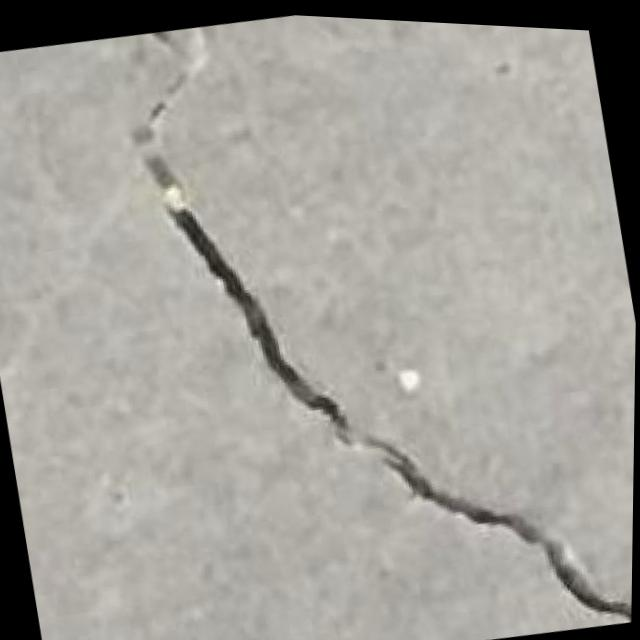Crack: (98, 4, 640, 640)
